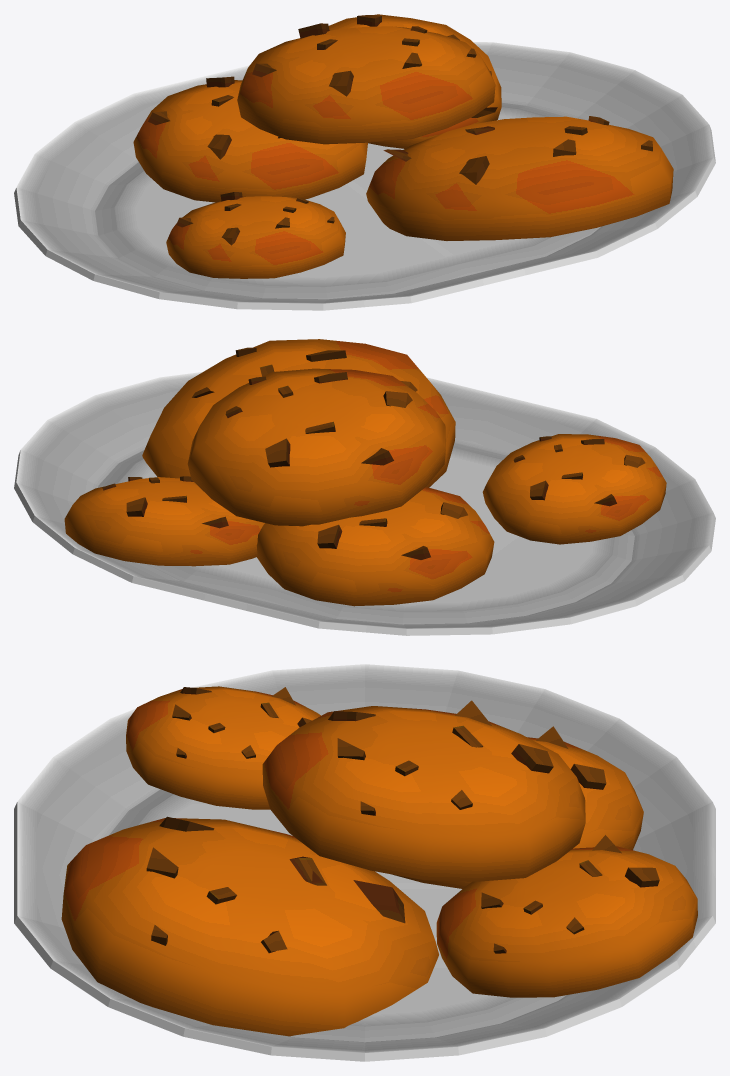
Rendered from cookie.fbx.
3 renders of one model, top to bottom at view 1: azimuth 30°, elevation 25°; view 2: azimuth 150°, elevation 25°; view 3: azimuth 270°, elevation 25°, orthographic. The views are drawn at different scales.
Parts seen in each view (by area): view 1: Circle.001, cookie.001, cookie, cookie.002, cookie.003; view 2: Circle.001, cookie, cookie.002, cookie.003, cookie.001; view 3: Circle.001, cookie.001, cookie.002, cookie.003, cookie.
Part boxes in pixels (bbox=[...]): Circle.001: bbox=[14, 42, 715, 310]; cookie.001: bbox=[366, 107, 673, 240]; cookie: bbox=[133, 76, 367, 278]; cookie.002: bbox=[237, 23, 495, 144]; cookie.003: bbox=[328, 14, 501, 148]; Circle.001: bbox=[14, 372, 715, 635]; cookie: bbox=[256, 434, 666, 606]; cookie.002: bbox=[187, 368, 445, 526]; cookie.003: bbox=[64, 476, 264, 566]; cookie.001: bbox=[142, 339, 455, 487]; Circle.001: bbox=[14, 664, 715, 1061]; cookie.001: bbox=[61, 816, 438, 1036]; cookie.002: bbox=[262, 700, 585, 881]; cookie.003: bbox=[436, 835, 697, 997]; cookie: bbox=[126, 686, 643, 888].
Size of the model in its own units: 423 by 102 by 321.
